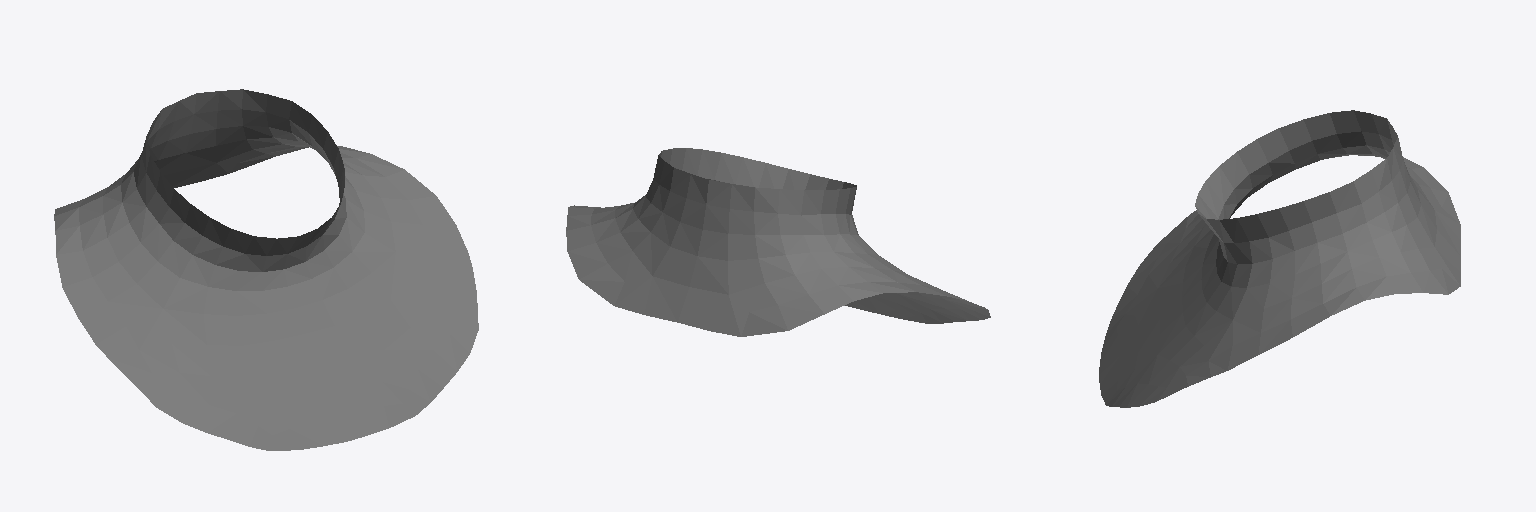
File: LowPoly_Aristocrata_Colarinho.obj
3 views of the same model, side by side, from view 1: azimuth 30°, elevation 25°; view 2: azimuth 150°, elevation 25°; view 3: azimuth 270°, elevation 25° (orthographic).
Parts seen in each view (by area): view 1: LowPoly_Aristocrata_Colarinho; view 2: LowPoly_Aristocrata_Colarinho; view 3: LowPoly_Aristocrata_Colarinho.
Boxes of the visible parts, box(x1,y1,x2,y2) form: LowPoly_Aristocrata_Colarinho: box(54, 89, 478, 450); LowPoly_Aristocrata_Colarinho: box(566, 148, 990, 336); LowPoly_Aristocrata_Colarinho: box(1099, 110, 1460, 407).
Bounding box in the file's own units: 30.83 × 18.61 × 25.55.